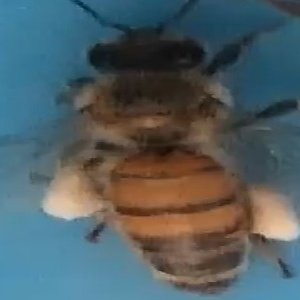bee: (30, 8, 295, 293)
